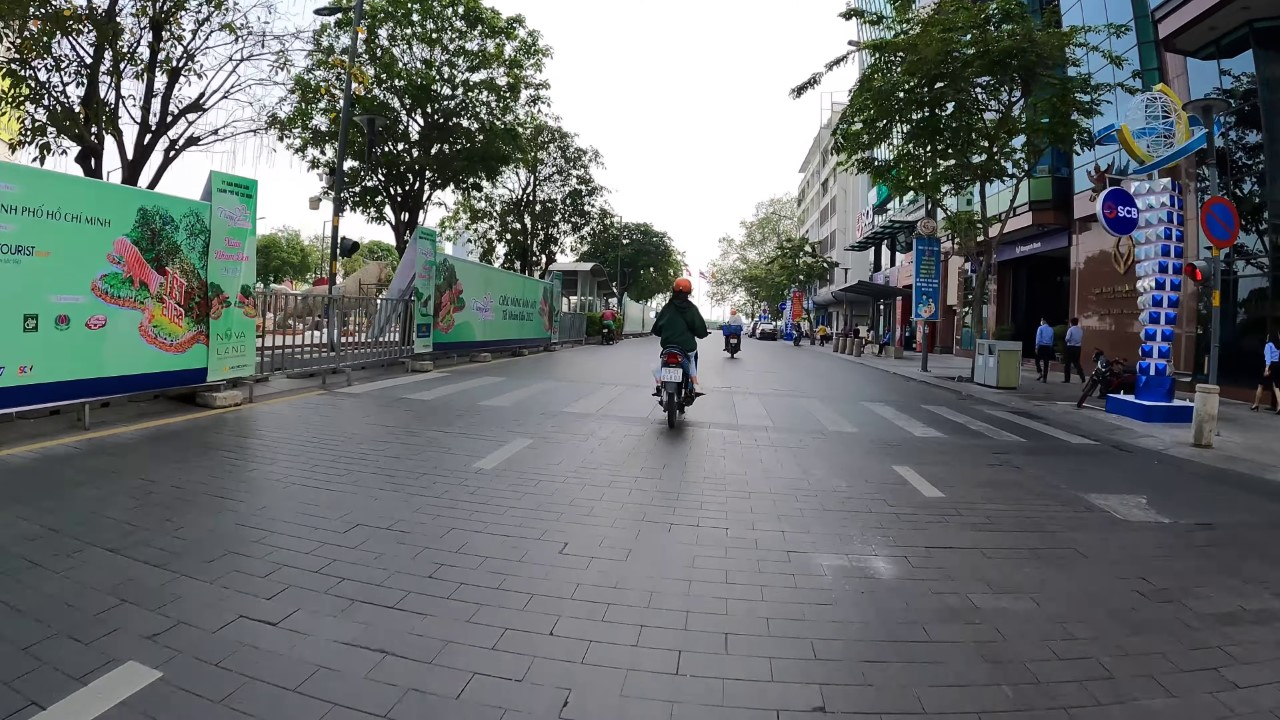cam_do_xe: (1196, 192, 1244, 254)
